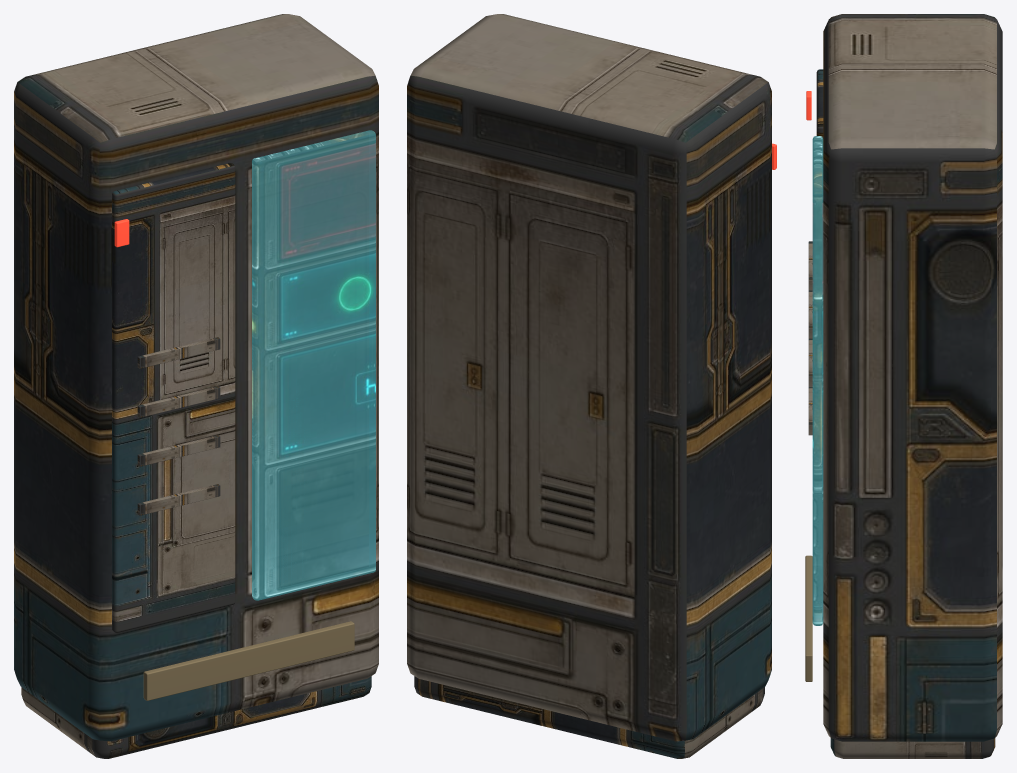
File: hp_room_carekeeper_service_closet.glb
3 views of the same model, side by side, from view 1: azimuth 30°, elevation 25°; view 2: azimuth 150°, elevation 25°; view 3: azimuth 270°, elevation 25° (orthographic).
Parts seen in each view (by area): view 1: tall_service_case, right_exposed_service_bay_image2_screen, left_smoked_door, bottom_hazard_but_muted_gold_bar, heavy_shadow_plinth, closet_vent_slit_0, closet_vent_slit_1, closet_vent_slit_2, closet_vent_slit_3; view 2: tall_service_case, heavy_shadow_plinth; view 3: tall_service_case, right_exposed_service_bay_image2_screen, heavy_shadow_plinth, bottom_hazard_but_muted_gold_bar, left_smoked_door.
Part boxes in pixels (x1=…): tall_service_case: x1=14, y1=14, x2=378, y2=741; right_exposed_service_bay_image2_screen: x1=252, y1=130, x2=375, y2=600; left_smoked_door: x1=112, y1=163, x2=235, y2=632; bottom_hazard_but_muted_gold_bar: x1=143, y1=621, x2=354, y2=700; heavy_shadow_plinth: x1=21, y1=676, x2=371, y2=758; closet_vent_slit_0: x1=137, y1=484, x2=220, y2=515; closet_vent_slit_1: x1=137, y1=435, x2=220, y2=466; closet_vent_slit_2: x1=137, y1=386, x2=220, y2=417; closet_vent_slit_3: x1=137, y1=337, x2=220, y2=368; tall_service_case: x1=407, y1=14, x2=771, y2=741; heavy_shadow_plinth: x1=414, y1=676, x2=764, y2=758; tall_service_case: x1=823, y1=14, x2=1002, y2=741; right_exposed_service_bay_image2_screen: x1=812, y1=136, x2=823, y2=625; heavy_shadow_plinth: x1=830, y1=738, x2=995, y2=758; bottom_hazard_but_muted_gold_bar: x1=805, y1=555, x2=812, y2=681; left_smoked_door: x1=816, y1=69, x2=823, y2=138.
Bounding box in the file's own units: 1.2 × 2.5 × 0.7183.
Materials: 6 (3 with a texture image).
